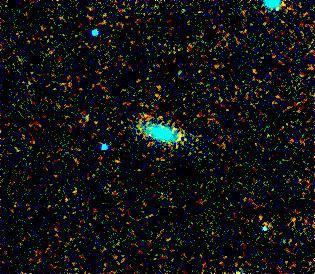star: (168, 119, 198, 149)
